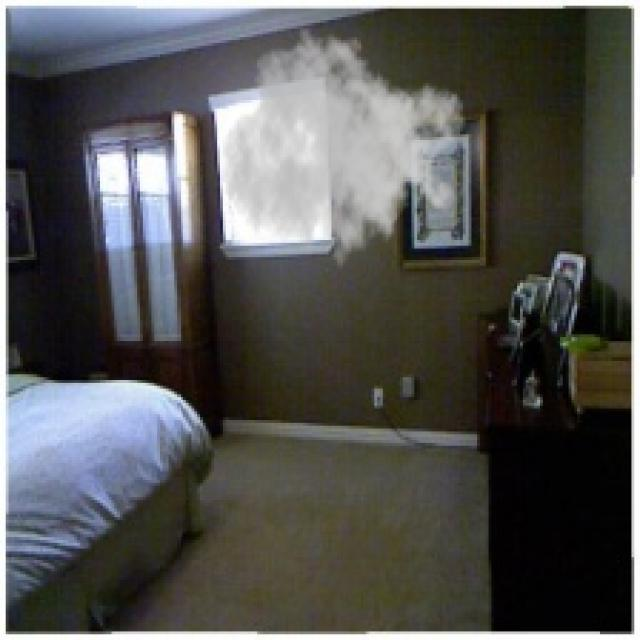Smoke: (220, 26, 466, 283)
